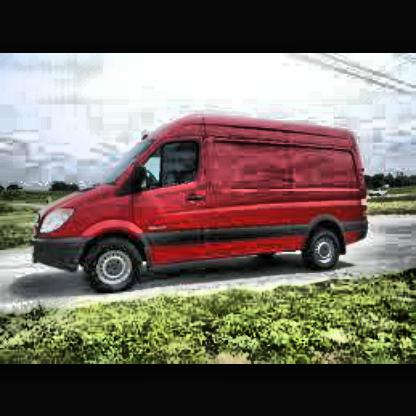Dodge Sprinter Cargo Van 2009: (29, 114, 372, 297)
